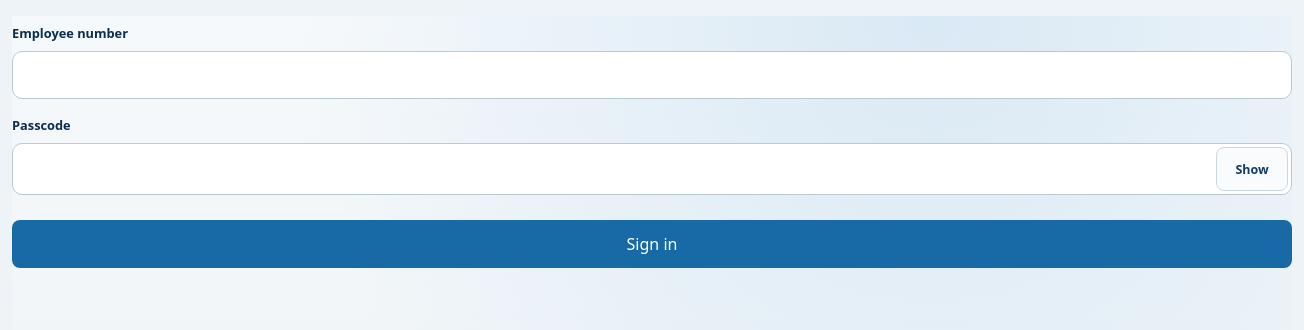
Test case: LoginForm › shows one generic failure message for a disabled or failed sign-in
Type "Fictional-001" into the field labelled "Employee number". click: (652, 75)
box: [12,51,1292,99]
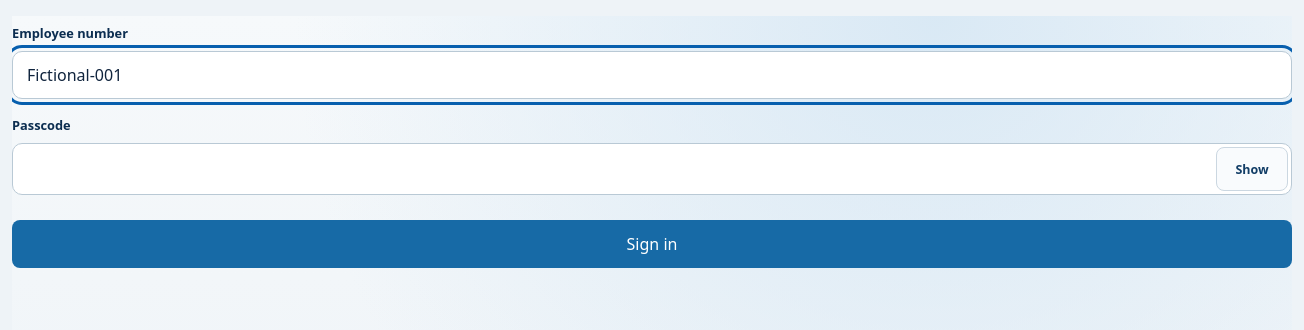
Type "not-a-real-passcode" into the password field labelled "Passcode". click: (652, 169)
box: [12,143,1292,195]
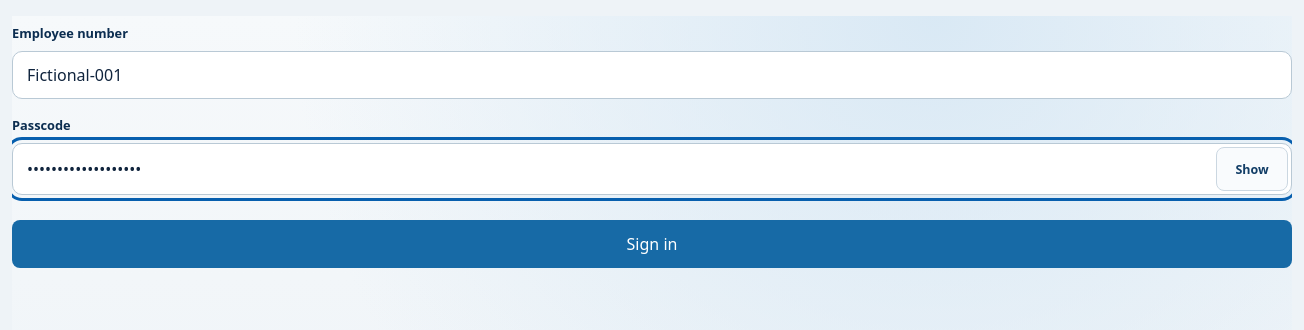
Click the button "Sign in". click: (652, 244)
box: [12,220,1292,268]
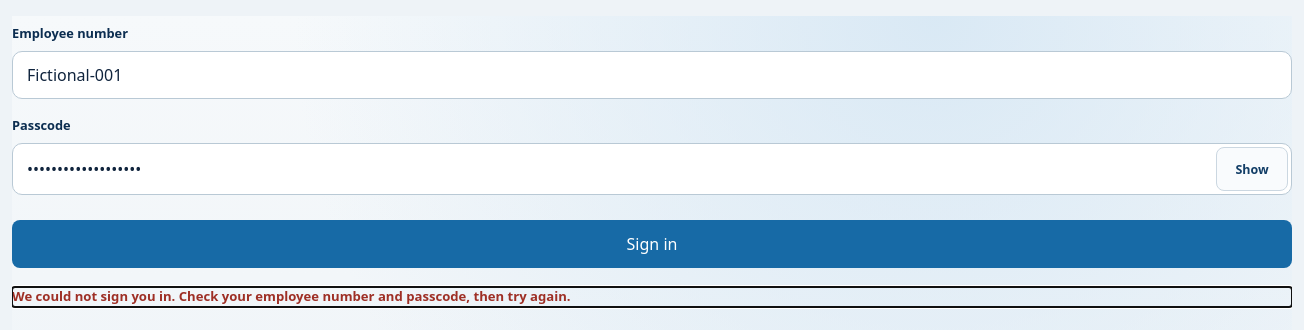
Now the text "We could not sign you in. Check your employee number and passcode, then try again." is shown, box [12,287,570,305]
